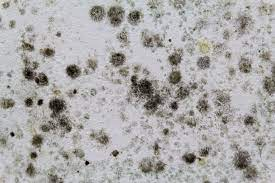Cladosporium: (128, 131, 273, 183), (232, 51, 275, 102), (127, 67, 162, 108), (88, 6, 159, 26), (48, 96, 74, 132), (23, 62, 50, 87)
